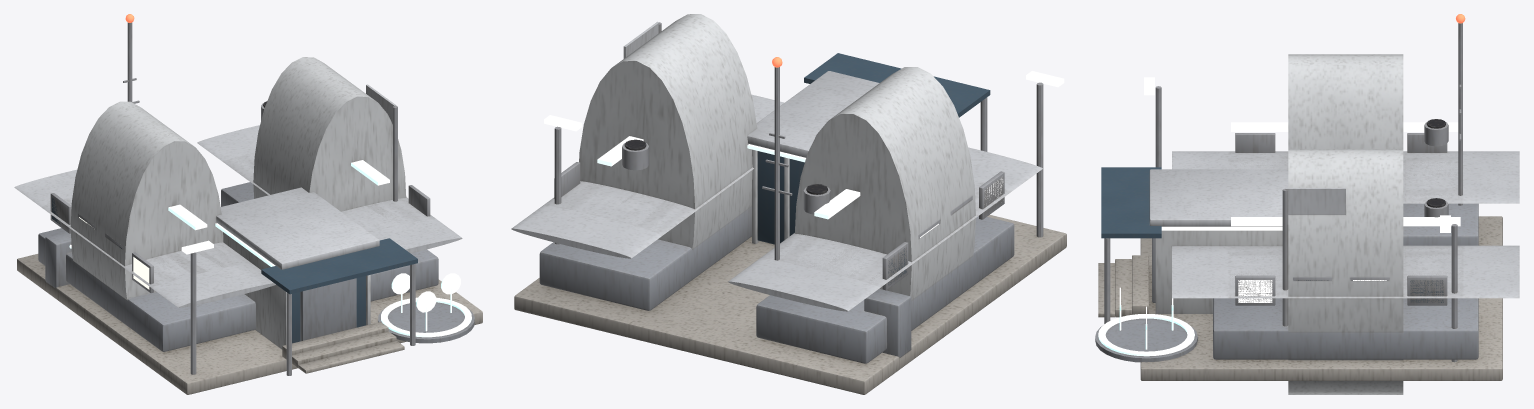
File: west_barracks.glb
The picture shows the model from 3 angles, left to right: view 1: azimuth 30°, elevation 25°; view 2: azimuth 150°, elevation 25°; view 3: azimuth 270°, elevation 25°; orthographic projection. The views are drawn at different scales.
Visible parts, largest first — view 1: Hull; view 2: Hull; view 3: Hull.
Part boxes in pixels (x1,y1,x2,y2): Hull: [14, 14, 482, 394]; Hull: [511, 14, 1066, 394]; Hull: [1095, 14, 1519, 394].
Bounding box in the file's own units: 6 × 5.53 × 7.03.
Materials: 12 (12 with a texture image).
